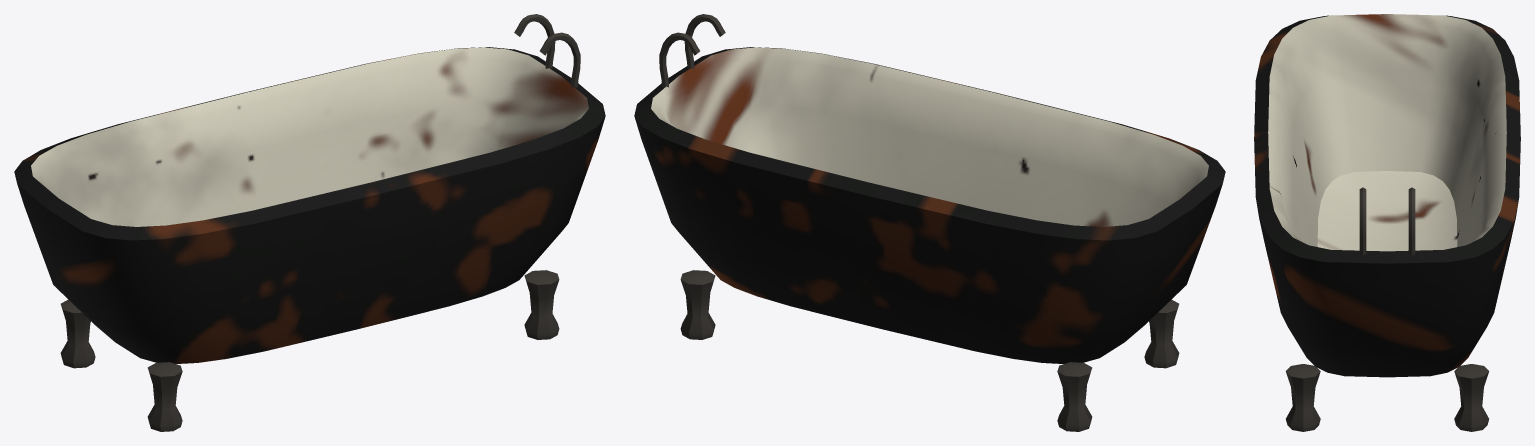
File: ClawfootTub.fbx
3 views of the same model, side by side, from view 1: azimuth 30°, elevation 25°; view 2: azimuth 150°, elevation 25°; view 3: azimuth 270°, elevation 25° (orthographic). The views are drawn at different scales.
Visible parts, largest first — view 1: ClawfootTub; view 2: ClawfootTub; view 3: ClawfootTub.
Boxes of the visible parts, box(x1,y1,x2,y2) form: ClawfootTub: box(14, 14, 605, 431); ClawfootTub: box(634, 14, 1225, 431); ClawfootTub: box(1254, 14, 1520, 431).
Bounding box in the file's own units: 1.68 × 0.8109 × 0.76.
